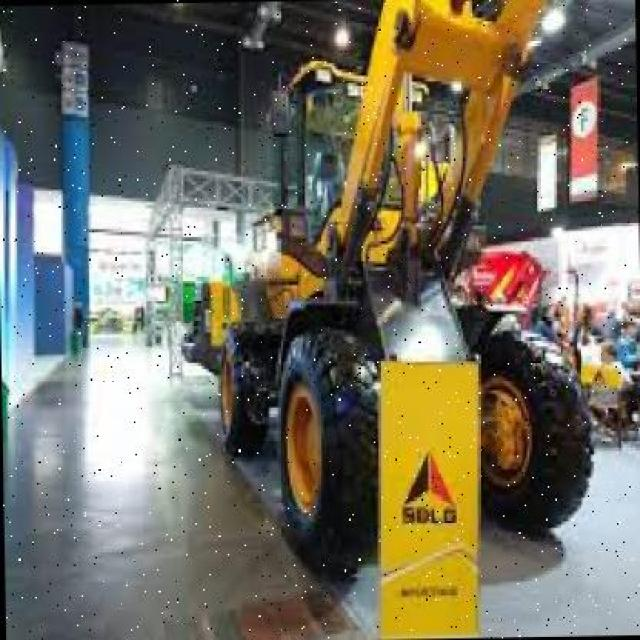buldozerpayloadergrader: (208, 0, 584, 582)
